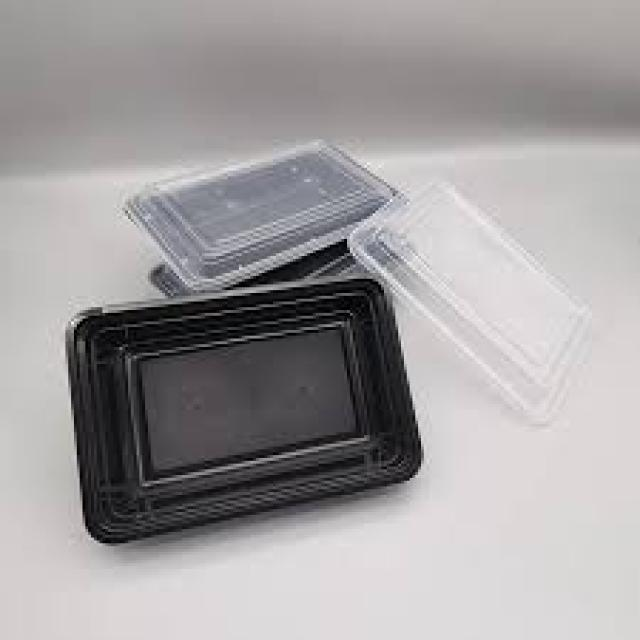disposable: (54, 280, 449, 534), (136, 143, 412, 296)
